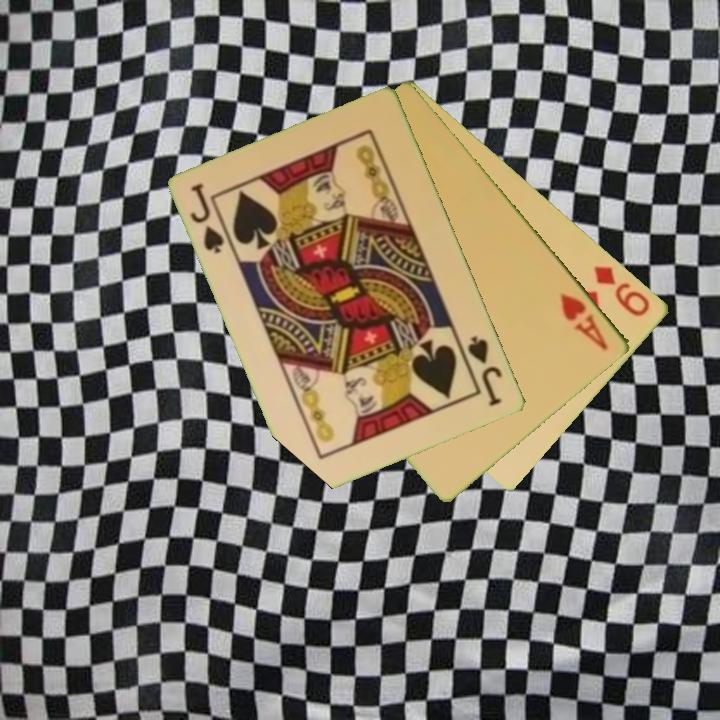9d: (591, 262, 654, 320)
Ah: (556, 290, 612, 354)
Js: (187, 179, 235, 258), (464, 332, 506, 410)
